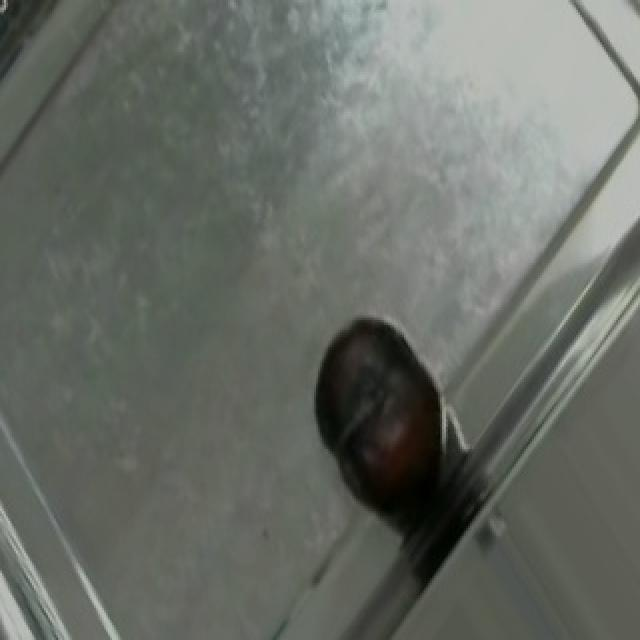Fruit: (294, 313, 472, 538)
